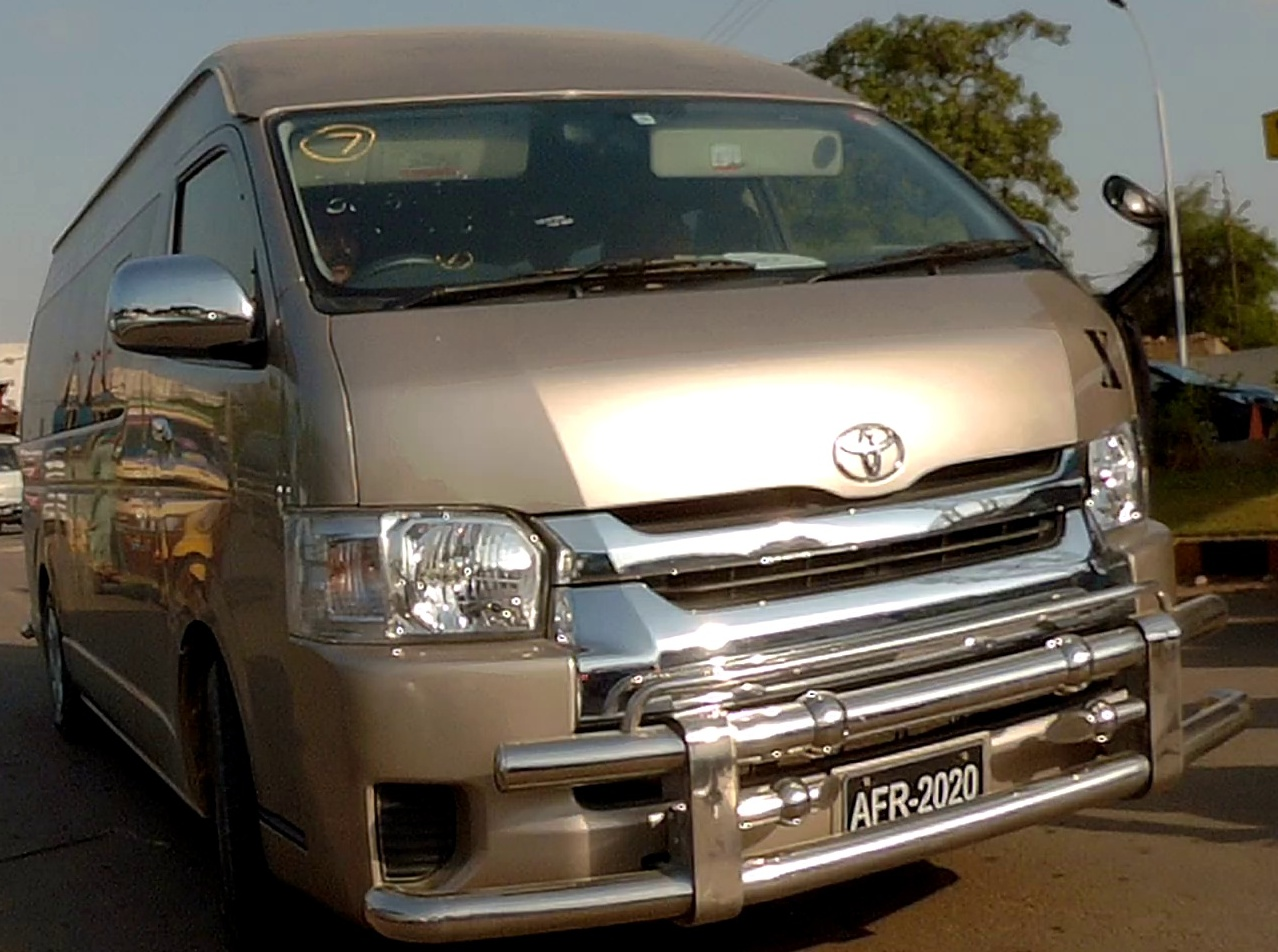van: (19, 25, 1249, 952)
